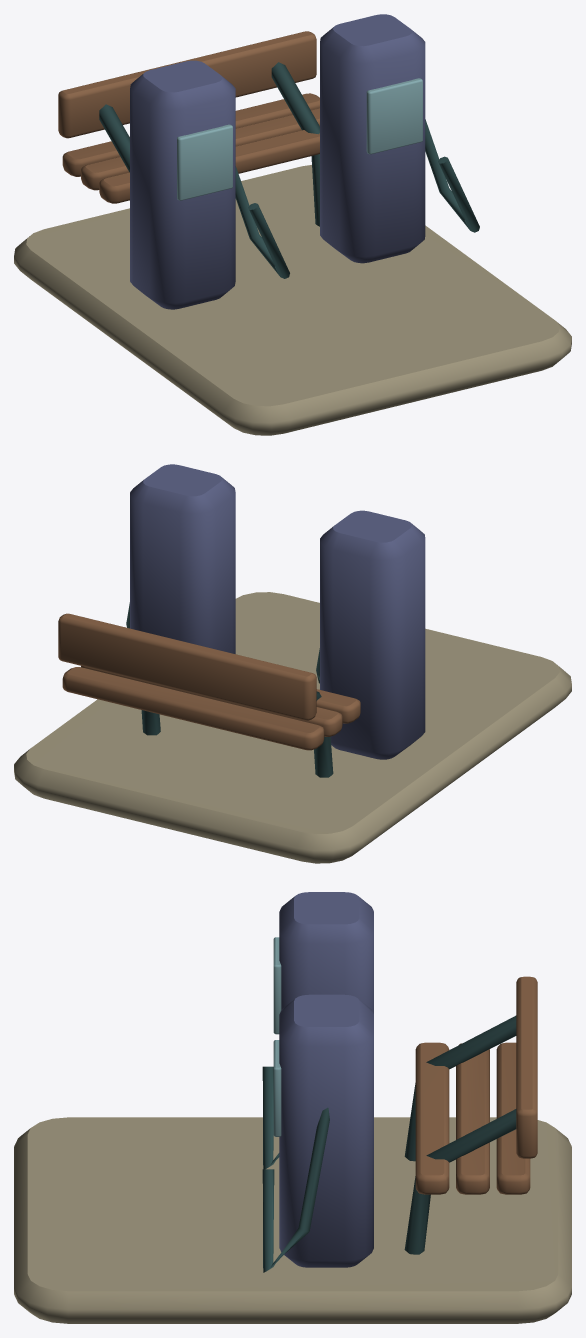
File: japan_charge_1.glb
The picture shows the model from 3 angles, top to bottom: view 1: azimuth 30°, elevation 25°; view 2: azimuth 150°, elevation 25°; view 3: azimuth 270°, elevation 25°; orthographic projection. The views are drawn at different scales.
Parts seen in each view (by area): view 1: JapanCharge1; view 2: JapanCharge1; view 3: JapanCharge1.
Boxes of the visible parts, x1,y1,x2,y2 form: JapanCharge1: (14, 14, 571, 435); JapanCharge1: (14, 464, 571, 863); JapanCharge1: (14, 892, 571, 1323).
Bounding box in the file's own units: 1.97 × 1.36 × 2.48.
